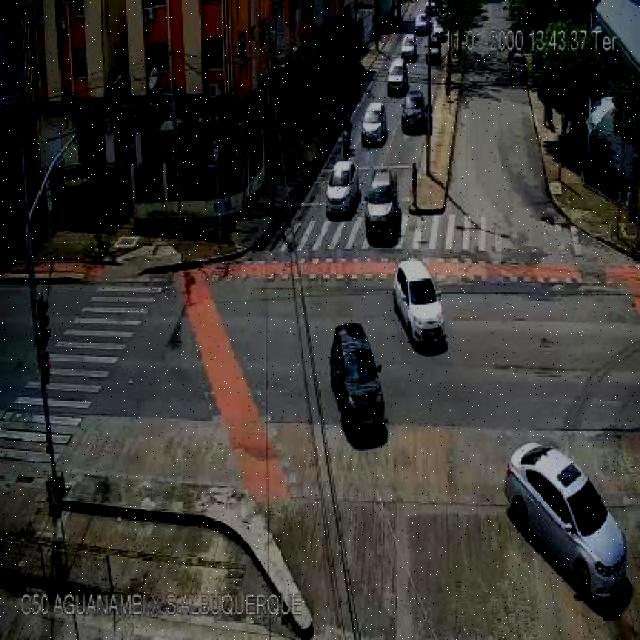Car: (502, 436, 630, 606), (330, 326, 386, 437), (394, 259, 444, 345), (365, 170, 399, 242), (325, 159, 358, 215), (361, 105, 386, 146), (402, 90, 426, 132), (386, 60, 407, 94), (510, 52, 528, 82), (400, 34, 418, 60), (430, 19, 446, 43), (427, 41, 442, 64), (414, 12, 429, 34), (426, 1, 438, 17)
